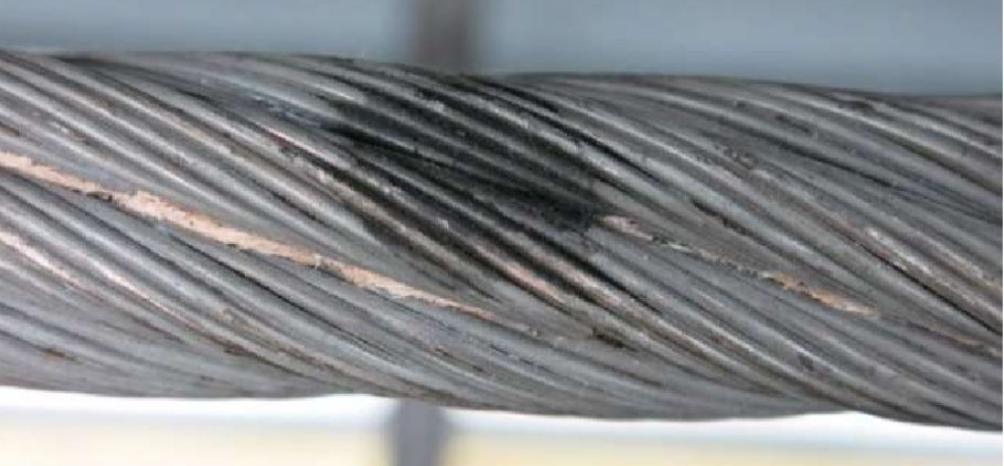thunderbolt: (324, 72, 619, 297)
